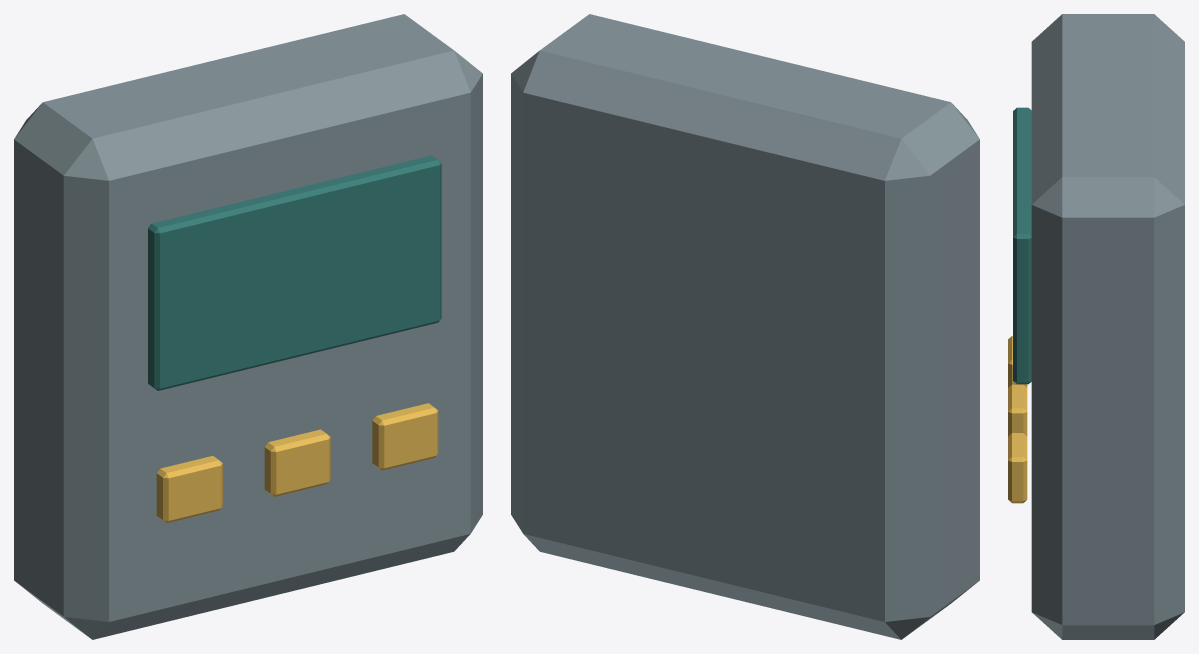
File: Prop_SecurityPanel.fbx
The picture shows the model from 3 angles, left to right: view 1: azimuth 30°, elevation 25°; view 2: azimuth 150°, elevation 25°; view 3: azimuth 270°, elevation 25°; orthographic projection. The views are drawn at different scales.
Parts seen in each view (by area): view 1: Panel, Screen.004, Button.001, Button.002, Button; view 2: Panel; view 3: Panel, Screen.004, Button.002, Button.001, Button.
Boxes of the visible parts, x1,y1,x2,y2 form: Panel: (14,14,482,639); Screen.004: (148,155,441,390); Button.001: (264,429,330,496); Button.002: (372,403,438,470); Button: (156,456,222,523); Panel: (511,14,979,639); Panel: (1031,14,1184,639); Screen.004: (1013,107,1031,384); Button.002: (1008,433,1027,503); Button.001: (1008,384,1027,436); Button: (1008,336,1027,387).
Size of the model in its own units: 0.35 by 0.4 by 0.1385.
